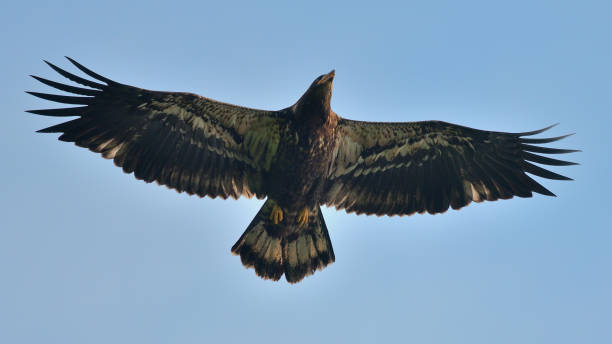Bird: (22, 50, 585, 287)
